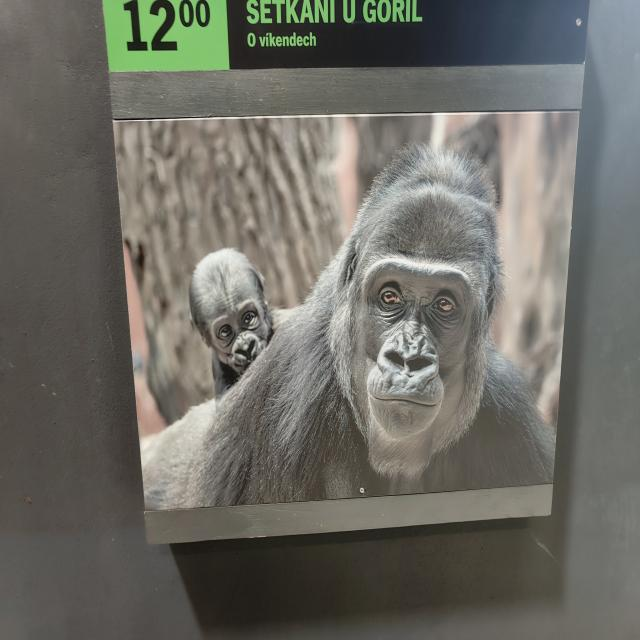monkey: (139, 136, 557, 509), (188, 247, 303, 401)
